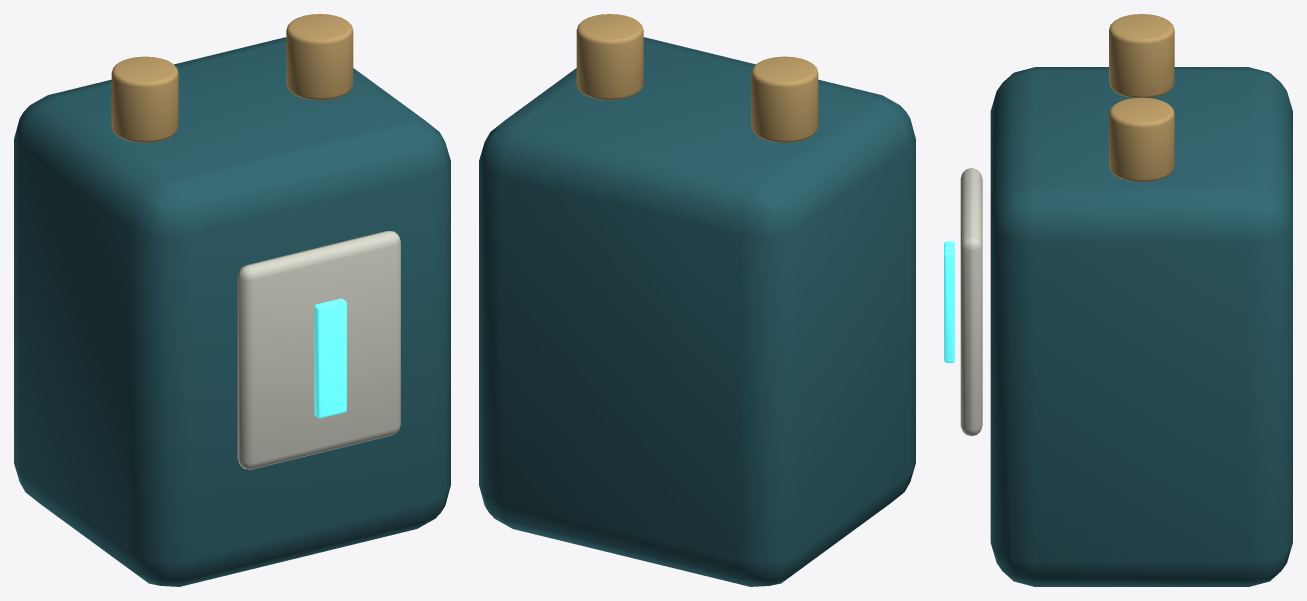
The model's file is cell.glb.
3 renders of one model, left to right at view 1: azimuth 30°, elevation 25°; view 2: azimuth 150°, elevation 25°; view 3: azimuth 270°, elevation 25°, orthographic. The views are drawn at different scales.
Parts seen in each view (by area): view 1: Blue sealed cell, Cell white indicator, Cell terminal, Cell terminal.001, Cell power mark; view 2: Blue sealed cell, Cell terminal, Cell terminal.001; view 3: Blue sealed cell, Cell white indicator, Cell terminal.001, Cell terminal, Cell power mark.
Part boxes in pixels (x1,y1,x2,y2): Blue sealed cell: [14, 37, 450, 586]; Cell white indicator: [237, 231, 400, 469]; Cell terminal: [111, 56, 178, 142]; Cell terminal.001: [286, 14, 353, 100]; Cell power mark: [314, 298, 346, 418]; Blue sealed cell: [479, 37, 915, 586]; Cell terminal: [751, 56, 818, 142]; Cell terminal.001: [576, 14, 643, 100]; Blue sealed cell: [990, 67, 1292, 586]; Cell white indicator: [960, 168, 982, 436]; Cell terminal.001: [1109, 97, 1174, 182]; Cell terminal: [1109, 14, 1174, 97]; Cell power mark: [944, 241, 954, 362].
Bounding box in the file's own units: 0.065 × 0.092 × 0.0635.
